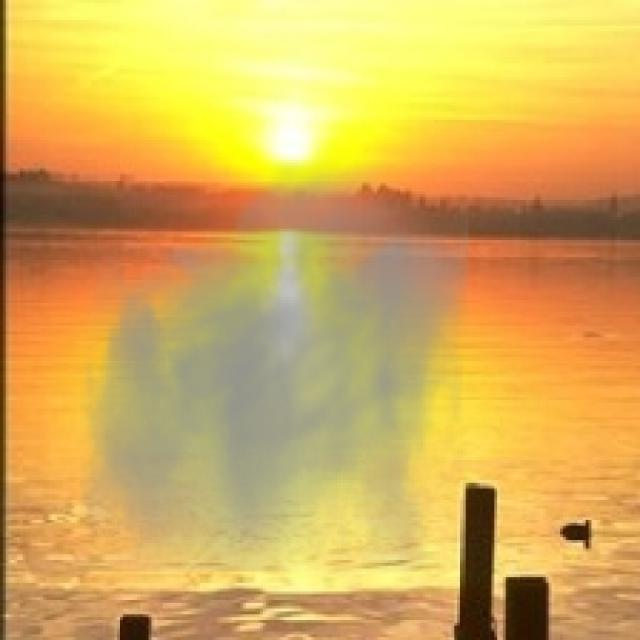Smoke: (80, 148, 469, 572)
